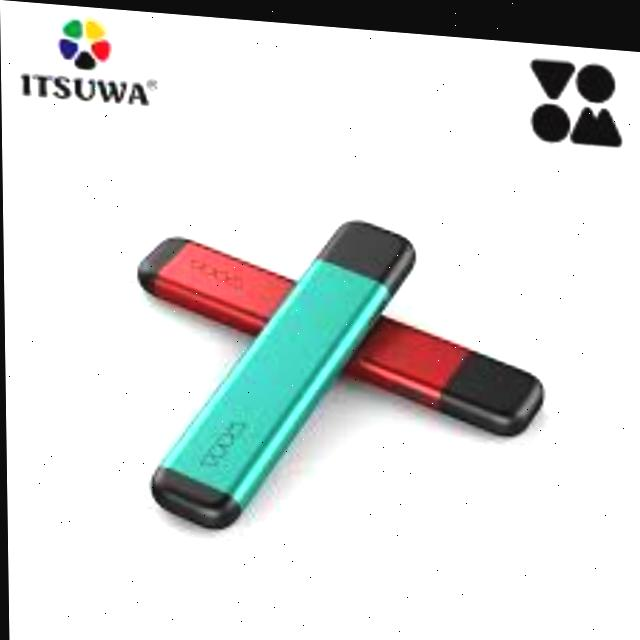vape: (145, 199, 421, 541), (135, 230, 547, 433)
